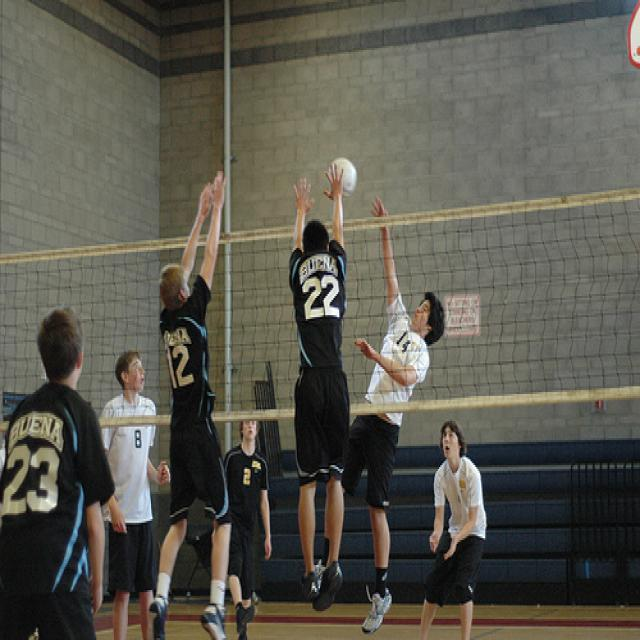volleyball: (331, 157, 358, 196)
